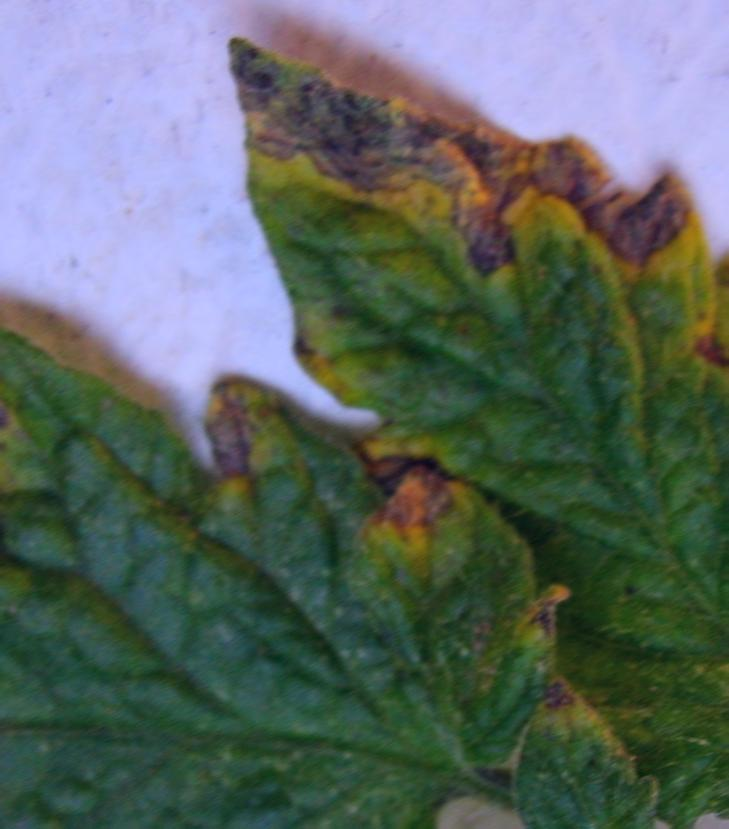Tomato Septoria leaf spot: (218, 38, 729, 829), (0, 309, 729, 829)
